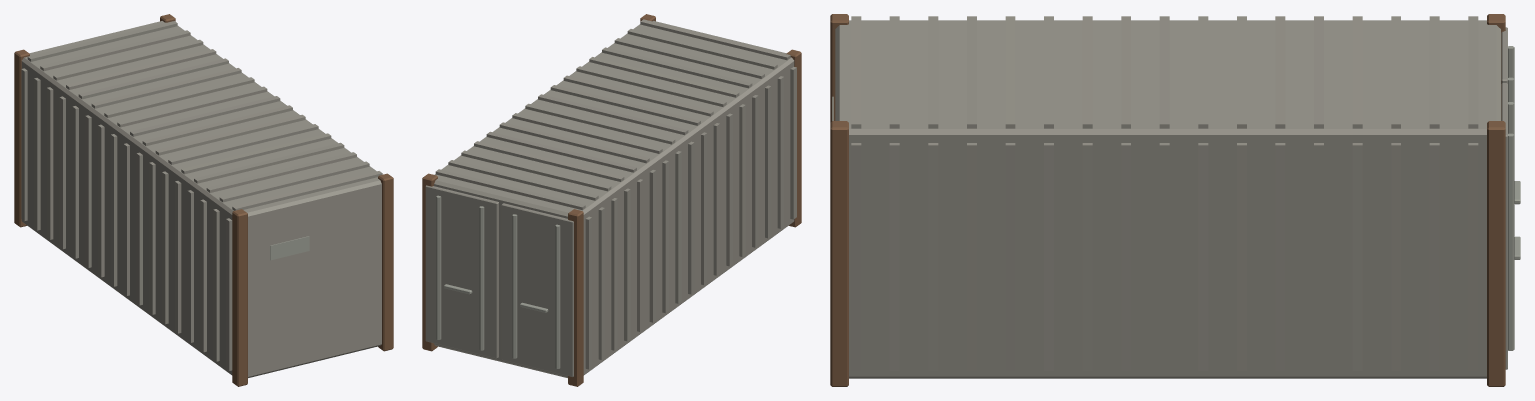
The model's file is container.glb.
The picture shows the model from 3 angles, left to right: view 1: azimuth 30°, elevation 25°; view 2: azimuth 150°, elevation 25°; view 3: azimuth 270°, elevation 25°; orthographic projection. The views are drawn at different scales.
Parts seen in each view (by area): view 1: container; view 2: container; view 3: container.
Boxes of the visible parts, left/top/right/bottom form: container: left=14, top=14, right=393, bottom=386; container: left=422, top=14, right=801, bottom=386; container: left=830, top=14, right=1520, bottom=386.
Size of the model in its own units: 2.52 by 2.6 by 6.27.
